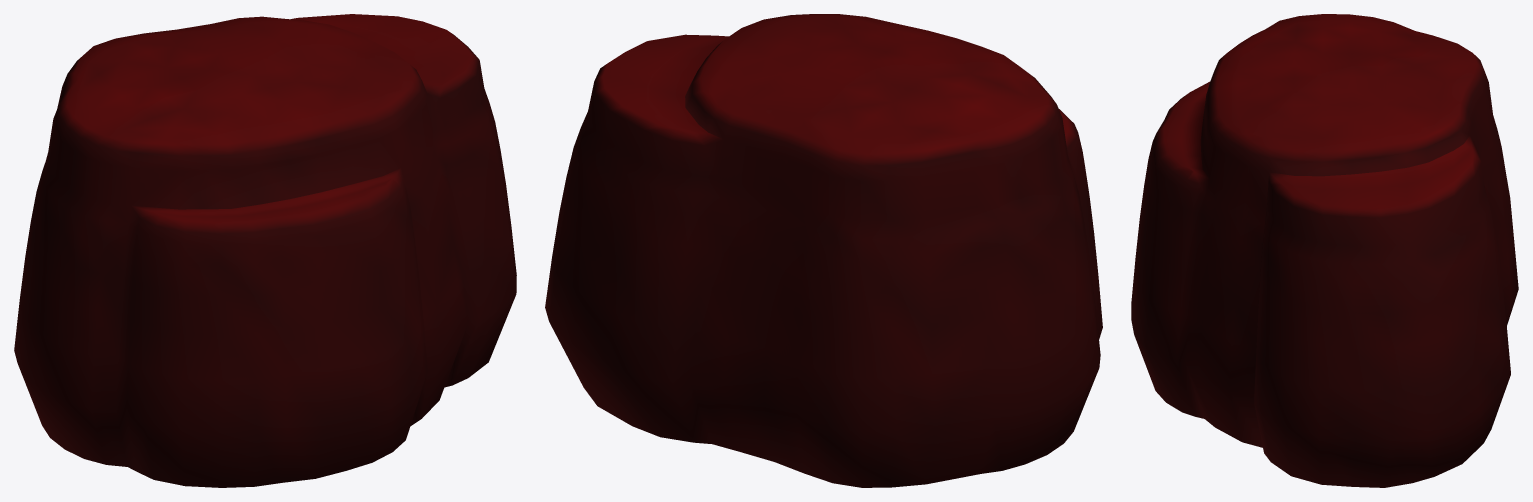
The model's file is geology-landforms-greenhillhuge_v2.fbx.
3 renders of one model, left to right at view 1: azimuth 30°, elevation 25°; view 2: azimuth 150°, elevation 25°; view 3: azimuth 270°, elevation 25°, orthographic. The views are drawn at different scales.
Parts seen in each view (by area): view 1: GreenHillHuge_v2; view 2: GreenHillHuge_v2; view 3: GreenHillHuge_v2.
Part boxes in pixels (box(x1,y1,x2,y2)): GreenHillHuge_v2: box(14, 14, 516, 487); GreenHillHuge_v2: box(545, 14, 1102, 487); GreenHillHuge_v2: box(1131, 14, 1518, 487).
Bounding box in the file's own units: 37.79 × 24.57 × 28.59.
